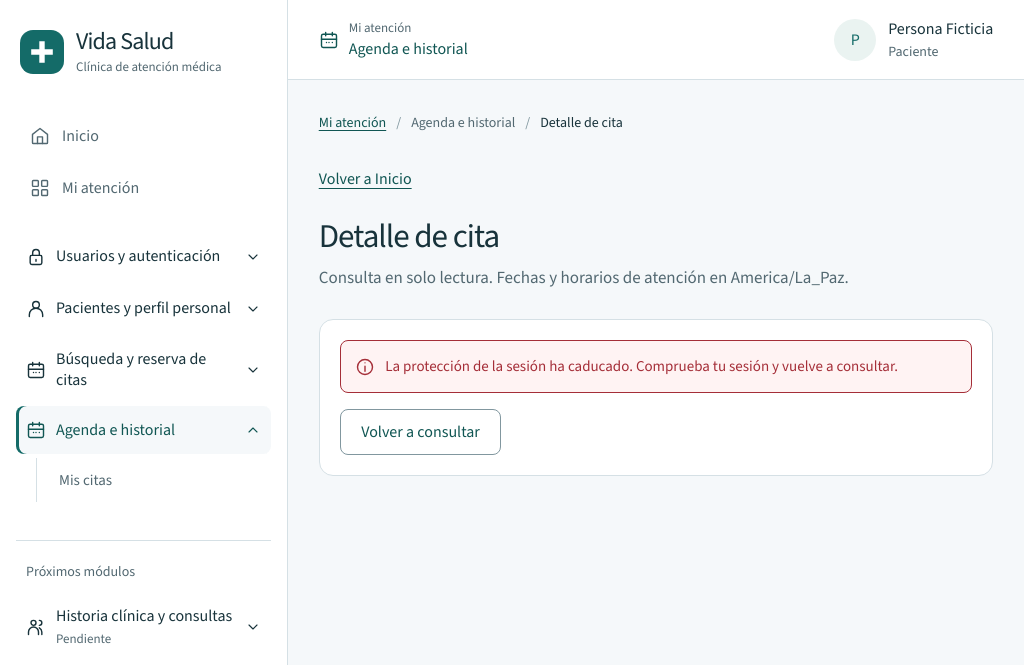
Test: 419 permite reconsulta manual sin reenviar escrituras ni exponer técnicos
Expected: the message does not show "SQL-RUTA-PRIVADA", top-left (340, 340), bottom-right (972, 392)
Click the button "Volver a consultar" at (421, 432), box top-left (340, 408), bottom-right (501, 455)
(page scrolled)
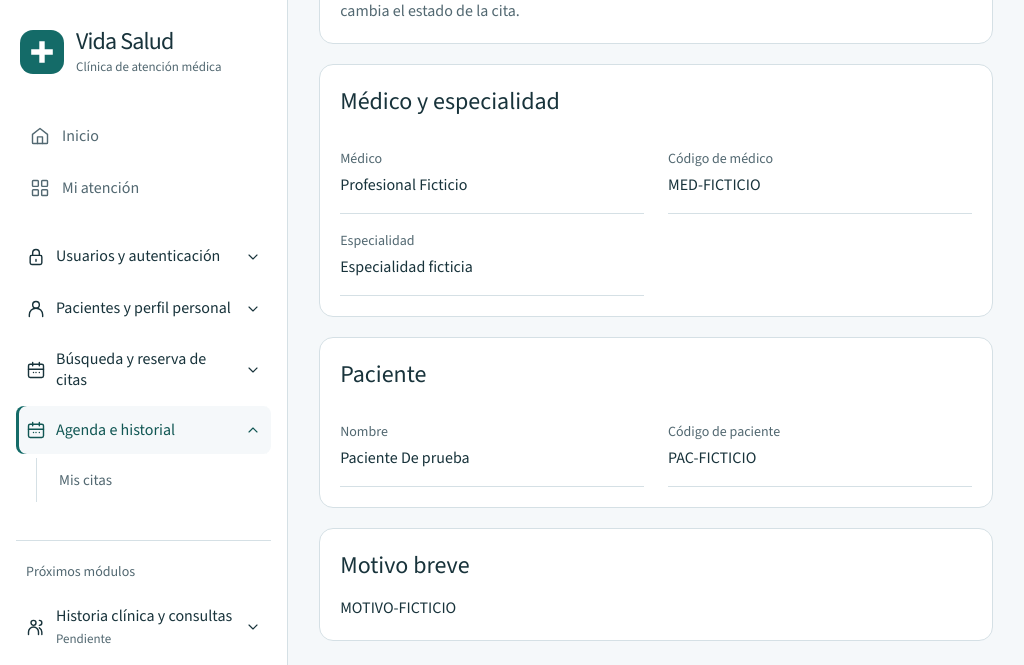
Now the element "Paciente" is shown, box top-left (319, 337), bottom-right (993, 508)
